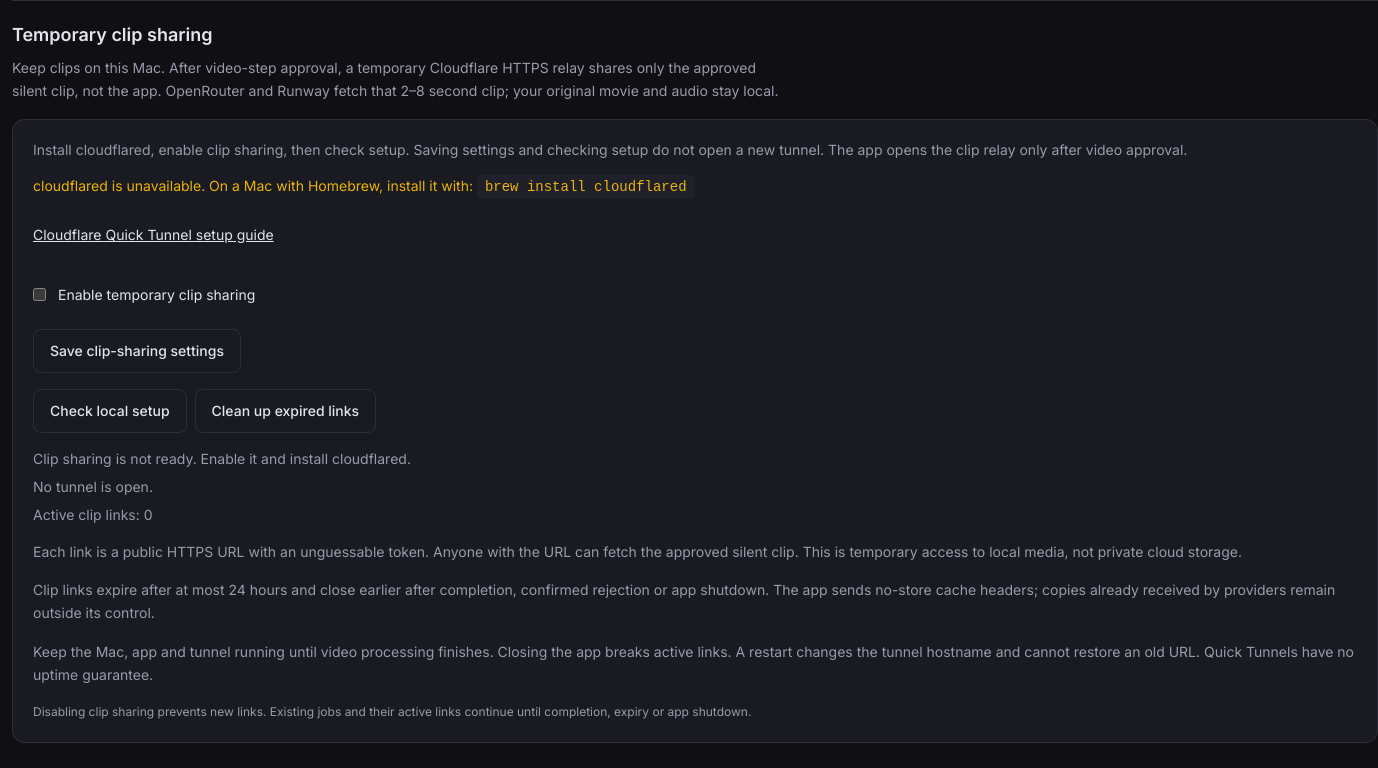
it: requires an explicit setup check and shows ready without an active tunnel
The width and height of the screenshot is (1378, 768).
Click the button "Check local setup" at [110, 410], box 33,388 -> 187,432
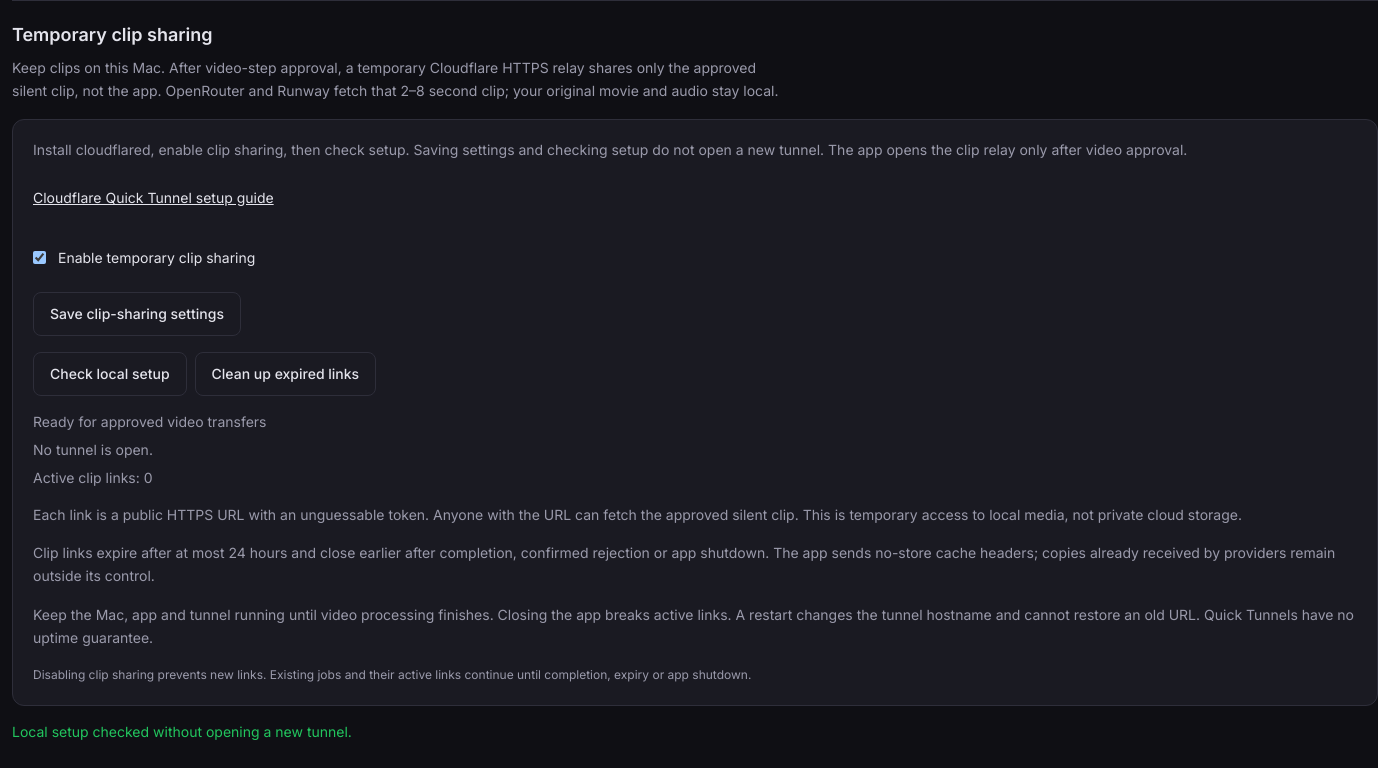
expect the text "No tunnel is open" is shown: met, box 33,440 -> 153,458
expect the text "Ready for approved video transfers" is shown: met, box 33,412 -> 266,430
